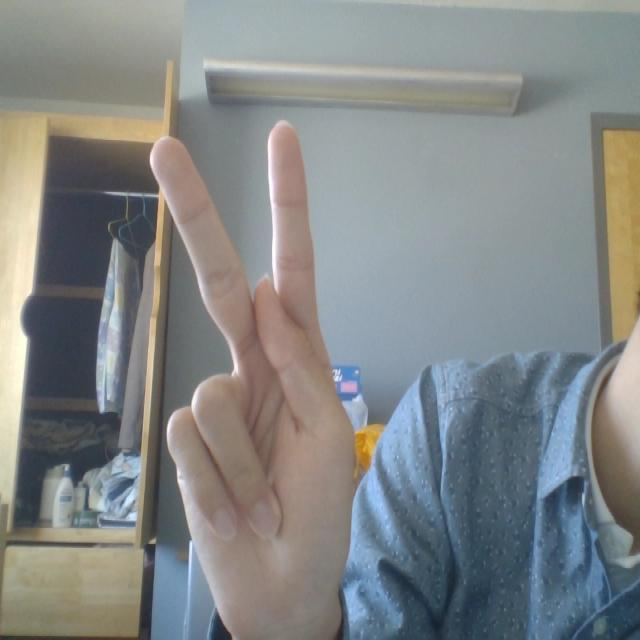K: (125, 84, 377, 640)
